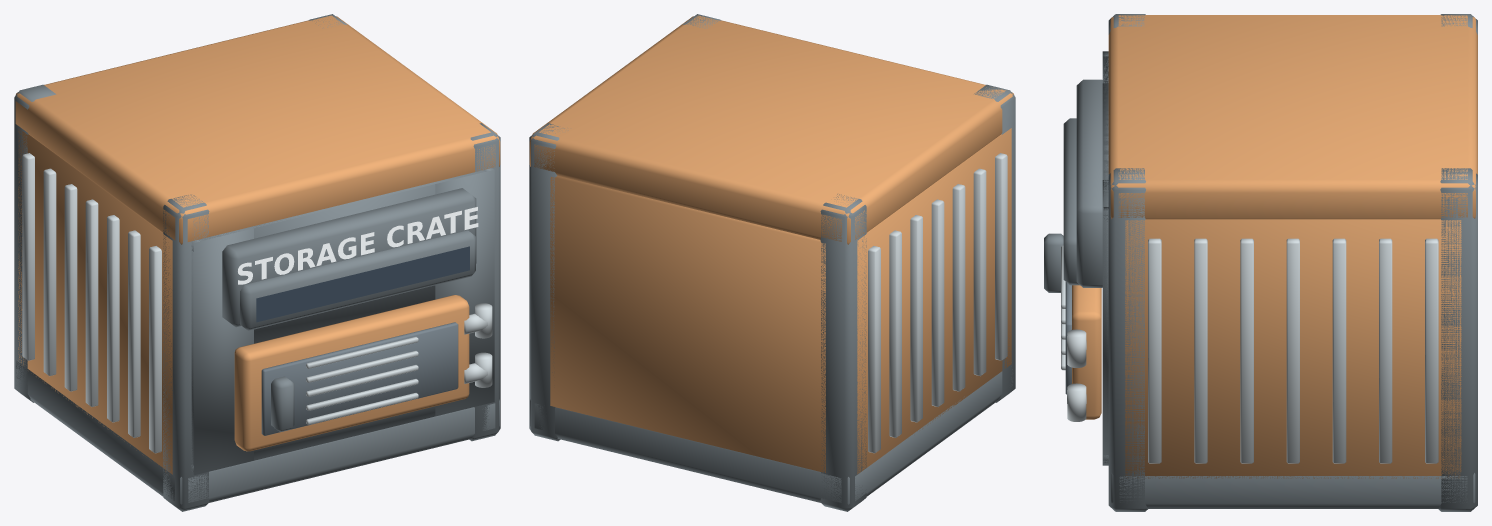
Rendered from storage_crate_enhanced.glb.
3 views of the same model, side by side, from view 1: azimuth 30°, elevation 25°; view 2: azimuth 150°, elevation 25°; view 3: azimuth 270°, elevation 25° (orthographic). The views are drawn at different scales.
Visible parts, largest first — view 1: Roof_orange, CargoRib_steel, SideWall_orange, SealJamb_frame, CornerPost_frame, Skid_frame, DoorMoving_Panel_orange, Header_frame, DoorMoving_Inset_graphite, ResourceNameSurfaceFrame_frame, ResourceNameSurface_glass, SealHeader_frame (+7 smaller); view 2: Roof_orange, RearWall_orange, CornerPost_frame, SideWall_orange, CargoRib_steel, Skid_frame; view 3: Roof_orange, SideWall_orange, CornerPost_frame, CargoRib_steel, Skid_frame, Header_frame, DoorMoving_Panel_orange, ResourceNameSurfaceFrame_frame, SealSideReturn_frame, DoorHinge_steel, SealJamb_frame, DoorMoving_Handle_frame (+4 smaller).
Part boxes in pixels (x1,y1,x2,y2): Roof_orange: (15,15,500,244); CargoRib_steel: (22,153,161,453); SideWall_orange: (18,128,172,474); SealJamb_frame: (191,169,494,475); CornerPost_frame: (14,14,500,511); Skid_frame: (16,360,499,504); DoorMoving_Panel_orange: (234,295,469,451); Header_frame: (222,188,476,327); DoorMoving_Inset_graphite: (261,322,458,435); ResourceNameSurfaceFrame_frame: (240,230,475,330); ResourceNameSurface_glass: (256,246,469,322); SealHeader_frame: (252,184,435,343); Roof_orange: (529,15,1013,244); RearWall_orange: (550,176,825,472); CornerPost_frame: (529,14,1015,511); SideWall_orange: (857,128,1011,474); CargoRib_steel: (868,153,1007,453); Skid_frame: (530,369,1012,504); Roof_orange: (1108,15,1477,219); SideWall_orange: (1125,219,1461,478); CornerPost_frame: (1108,14,1477,511); CargoRib_steel: (1148,238,1438,463); Skid_frame: (1111,473,1475,508); Header_frame: (1076,79,1102,287); DoorMoving_Panel_orange: (1072,285,1101,419); ResourceNameSurfaceFrame_frame: (1063,118,1079,285); SealSideReturn_frame: (1103,51,1108,465); DoorHinge_steel: (1067,329,1086,421); SealJamb_frame: (1102,51,1108,465); DoorMoving_Handle_frame: (1044,233,1063,292).
Bounding box in the file's own units: 1.08 × 0.92 × 1.09.
